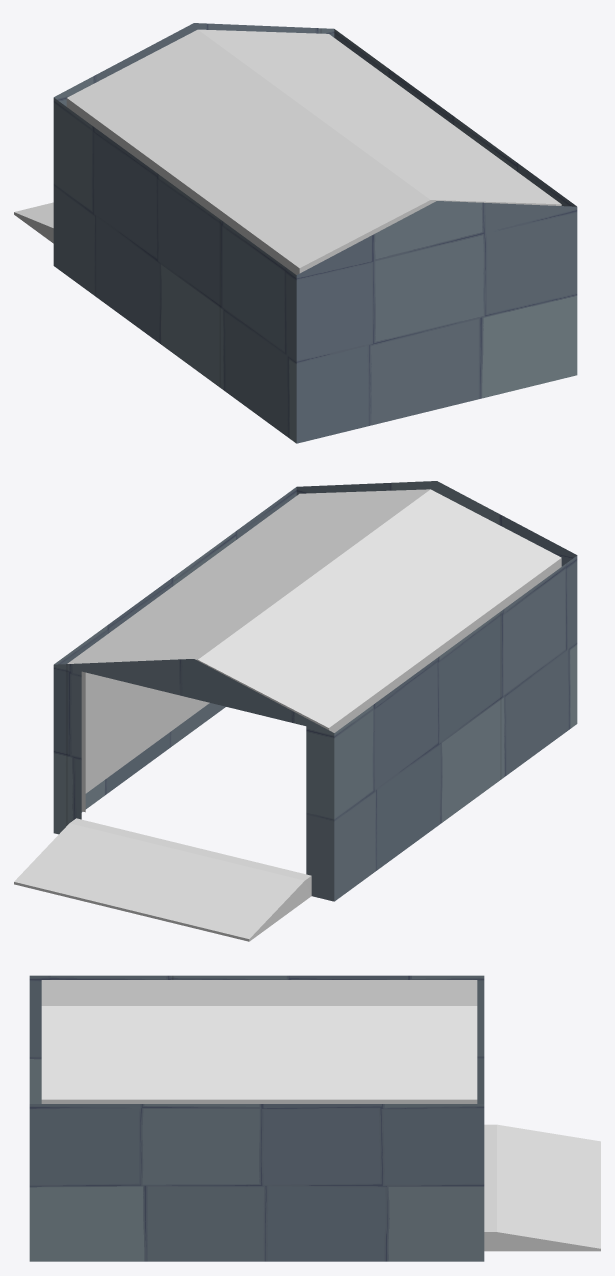
The model's file is SM_GarageMetal001.fbx.
3 renders of one model, top to bottom at view 1: azimuth 30°, elevation 25°; view 2: azimuth 150°, elevation 25°; view 3: azimuth 270°, elevation 25°, orthographic. The views are drawn at different scales.
Visible parts, largest first — view 1: Cube:003; view 2: Cube:003; view 3: Cube:003.
Part boxes in pixels (box(x1,y1,x2,y2)): Cube:003: box(14, 23, 577, 443); Cube:003: box(14, 481, 577, 941); Cube:003: box(29, 975, 600, 1261).
Size of the model in its own units: 764 by 496 by 1335.
2 materials, 1 textured.
